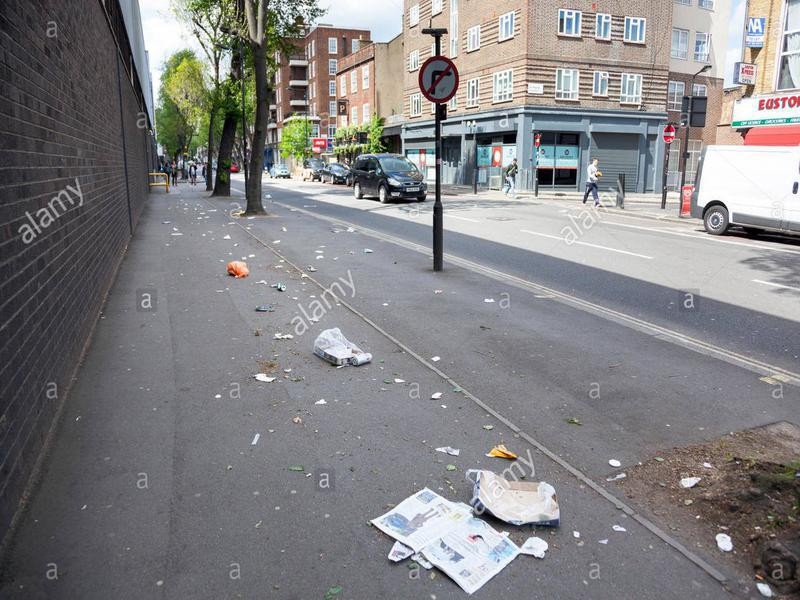paper: (362, 484, 519, 593)
